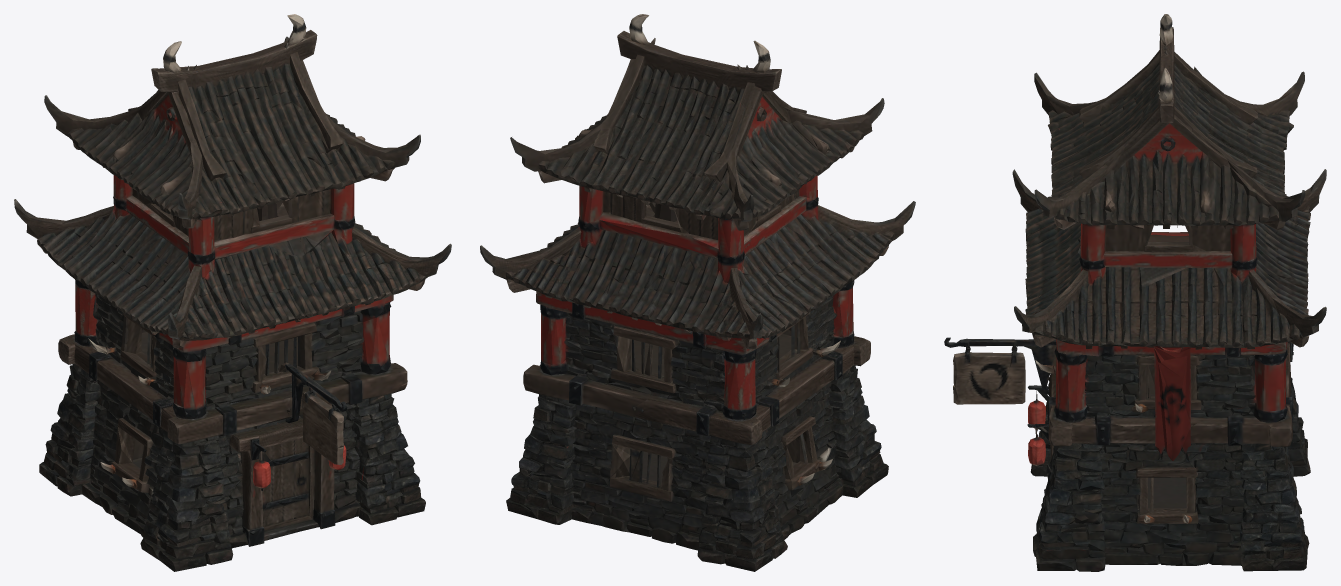
The model's file is house_stone_b.glb.
3 renders of one model, left to right at view 1: azimuth 30°, elevation 25°; view 2: azimuth 150°, elevation 25°; view 3: azimuth 270°, elevation 25°, orthographic.
Parts seen in each view (by area): view 1: house_stone_b; view 2: house_stone_b; view 3: house_stone_b.
Part boxes in pixels (x1=…): house_stone_b: x1=14, y1=14, x2=451, y2=571; house_stone_b: x1=480, y1=14, x2=915, y2=571; house_stone_b: x1=944, y1=14, x2=1326, y2=571.
Bounding box in the file's own units: 7.02 × 11 × 8.15.
1 material, 1 textured.
